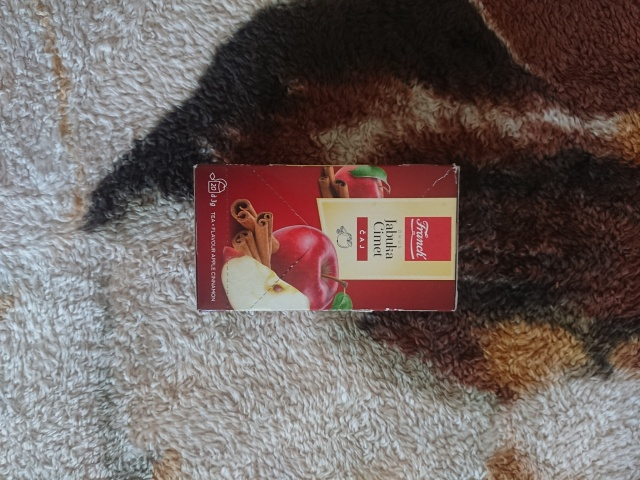Franck Apple Cinnamon Tea 60g: (189, 159, 463, 315)
